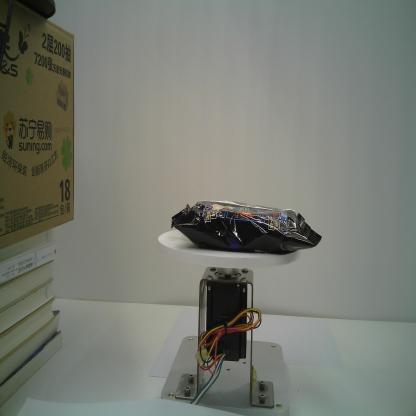Instant Noodles: (170, 199, 322, 256)
